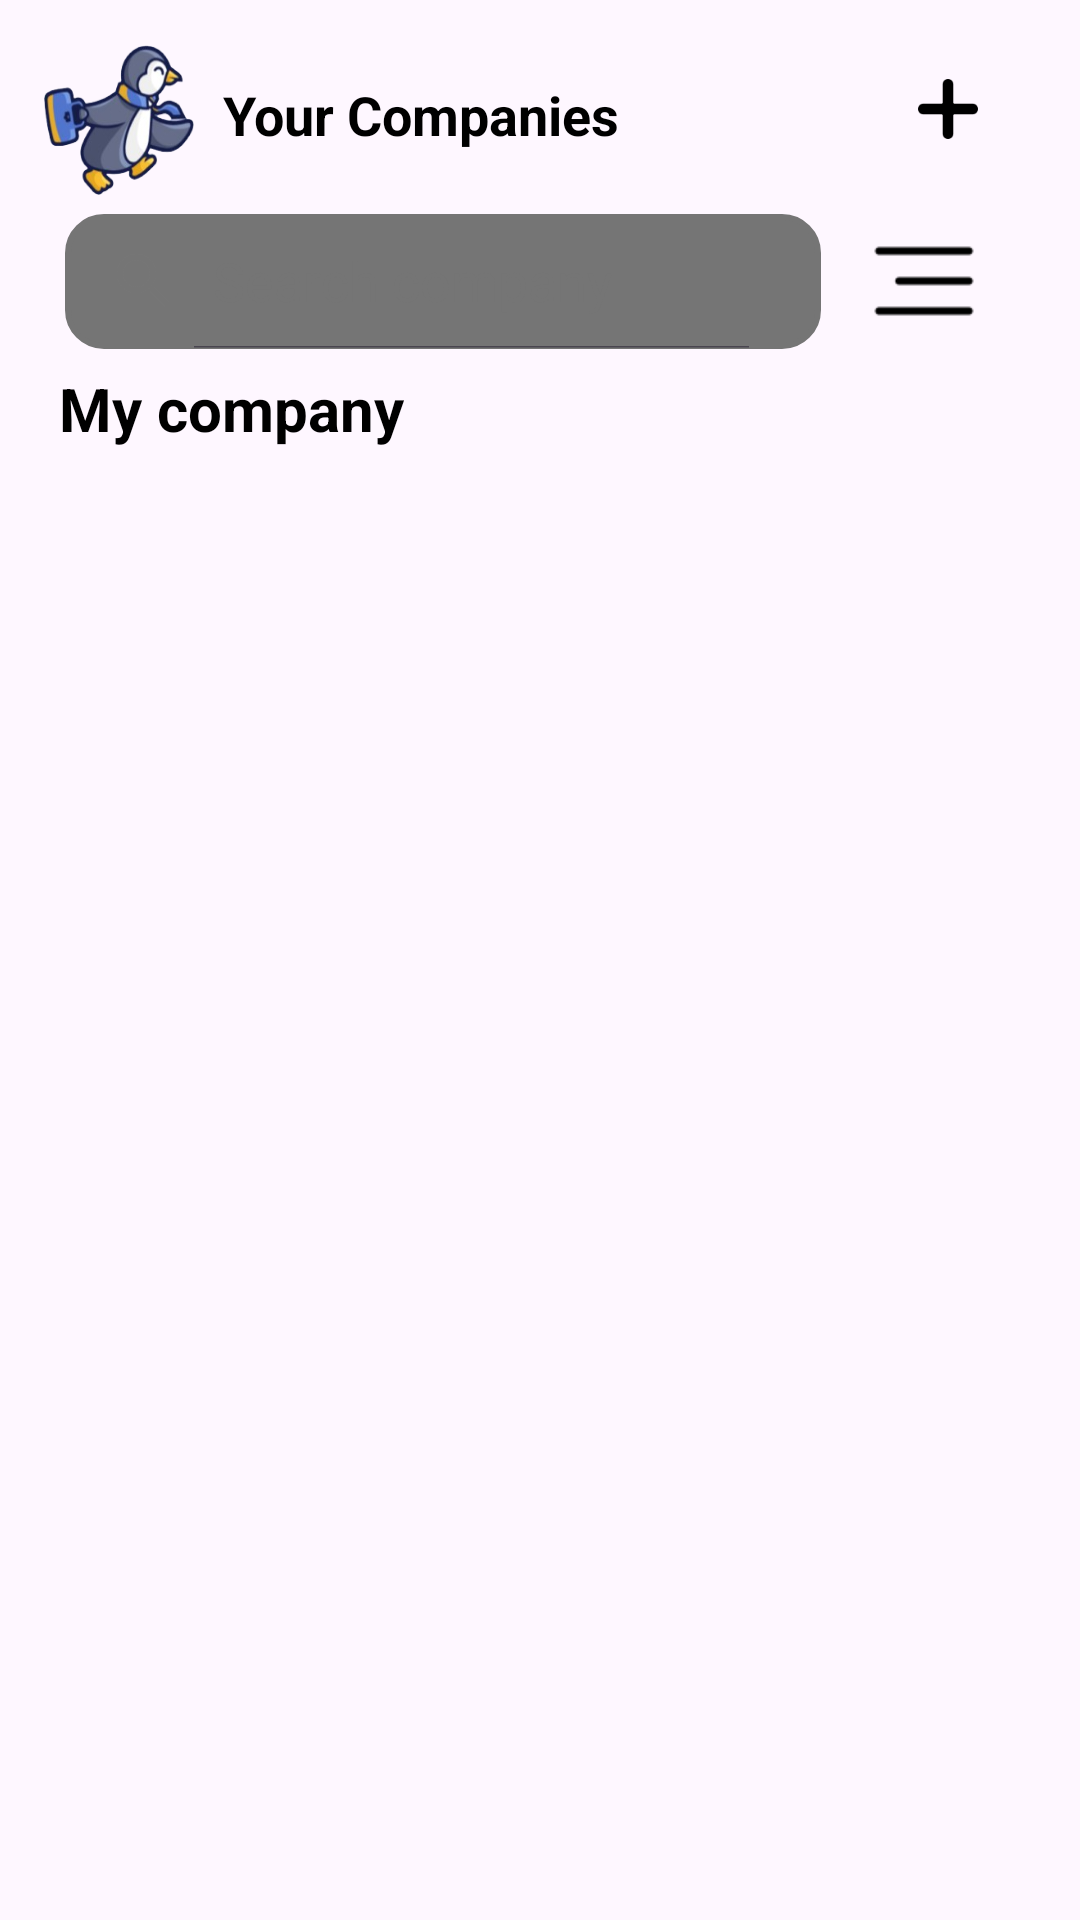

Icon click points for this 1080 x 1920 phone screenshot, format (x,y):
add: (948,109)
filter: (924,281)
penguin: (119,120)
